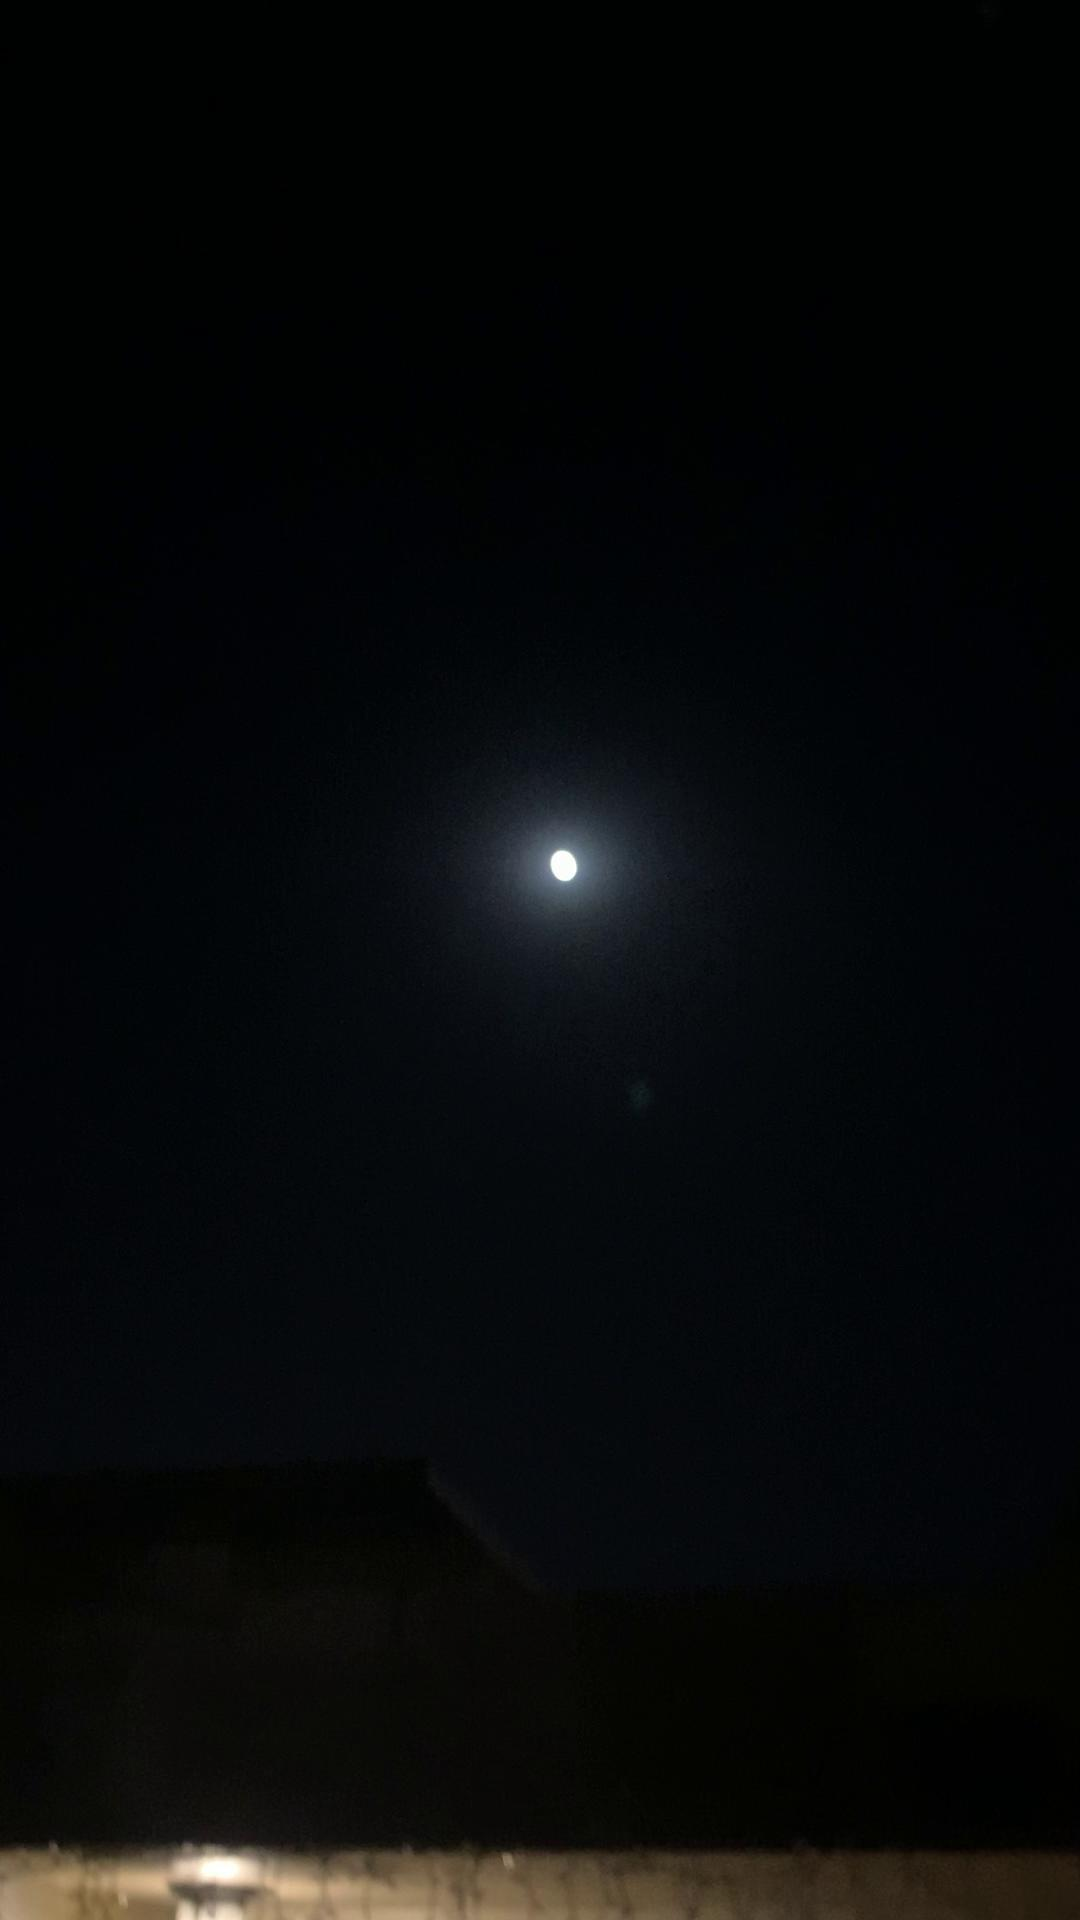moon: (522, 815, 609, 911)
